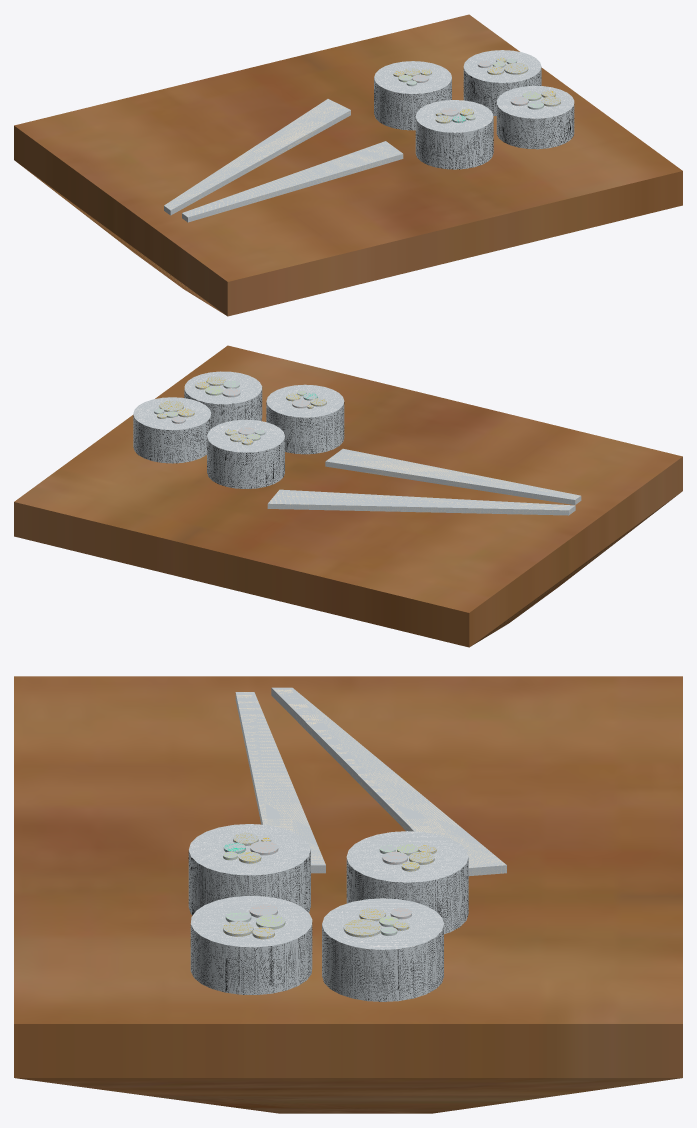
The model's file is comida3.glb.
3 views of the same model, one above another, from view 1: azimuth 30°, elevation 25°; view 2: azimuth 150°, elevation 25°; view 3: azimuth 270°, elevation 25° (orthographic). The views are drawn at different scales.
Visible parts, largest first — view 1: Cube, SketchUp.041, SketchUp.042, SketchUp.006, SketchUp.001, SketchUp.004, SketchUp.003, SketchUp.005, SketchUp.021, SketchUp.012, SketchUp.002; view 2: Cube, SketchUp.041, SketchUp.042, SketchUp.004, SketchUp.002, SketchUp.006, SketchUp.003, SketchUp.005, SketchUp.021, SketchUp.012, SketchUp.001; view 3: Cube, SketchUp.041, SketchUp.002, SketchUp.001, SketchUp.042, SketchUp.006, SketchUp.003, SketchUp.005, SketchUp.004, SketchUp.021, SketchUp.012.
Boxes of the visible parts, x1,y1,x2,y2 form: Cube: [14, 14, 682, 316]; SketchUp.041: [164, 99, 350, 215]; SketchUp.042: [182, 141, 403, 222]; SketchUp.006: [415, 117, 493, 169]; SketchUp.001: [496, 104, 574, 149]; SketchUp.004: [374, 78, 451, 130]; SketchUp.003: [374, 61, 451, 93]; SketchUp.005: [415, 100, 493, 132]; SketchUp.021: [463, 50, 541, 82]; SketchUp.012: [496, 85, 574, 118]; SketchUp.002: [463, 67, 541, 115]; Cube: [14, 345, 682, 647]; SketchUp.041: [267, 489, 575, 515]; SketchUp.042: [325, 448, 581, 504]; SketchUp.004: [207, 436, 284, 488]; SketchUp.002: [133, 414, 211, 463]; SketchUp.006: [266, 402, 344, 454]; SketchUp.003: [207, 419, 284, 452]; SketchUp.005: [266, 384, 344, 417]; SketchUp.021: [133, 397, 211, 430]; SketchUp.012: [184, 371, 262, 404]; SketchUp.001: [184, 387, 262, 428]; Cube: [14, 676, 682, 1113]; SketchUp.041: [271, 687, 506, 876]; SketchUp.002: [322, 924, 443, 1001]; SketchUp.001: [190, 922, 312, 994]; SketchUp.042: [235, 692, 325, 873]; SketchUp.006: [188, 849, 310, 915]; SketchUp.003: [346, 831, 468, 882]; SketchUp.005: [189, 824, 310, 875]; SketchUp.004: [346, 857, 468, 934]; SketchUp.021: [322, 898, 443, 949]; SketchUp.012: [190, 896, 312, 947].
Size of the model in its own units: 5.09 by 1.25 by 4.14.
Materials: 14 (1 with a texture image).
